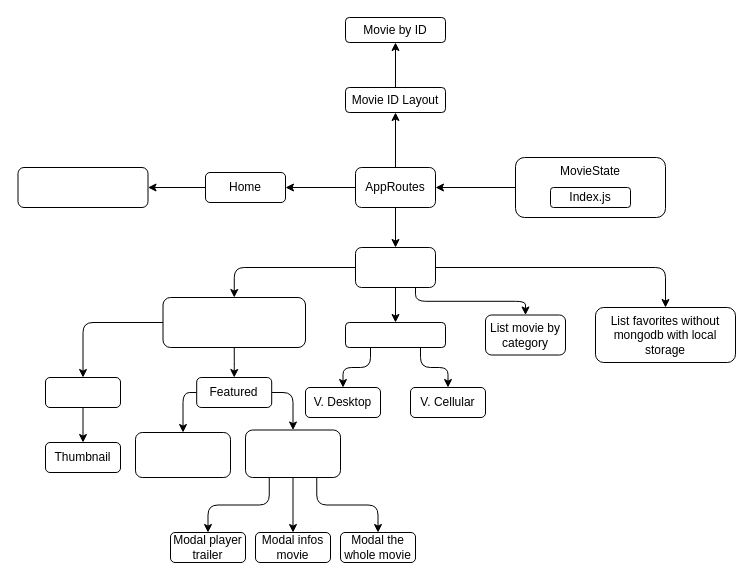
This 753x580 diagram has some shape labels left out. Each missing label, with the centre of its shape:
"AppLayout" goes at pixel 395 267.
"Component Box Featured" goes at pixel 182 455.
"Global Modaux Featured" goes at pixel 292 453.
"List all movies" goes at pixel 395 335.
"Page featured and slider category list movies" goes at pixel 234 322.
"Row" goes at pixel 82 392.
"Welcome Annoucing Lastet Movies Series" goes at pixel 82 187.
